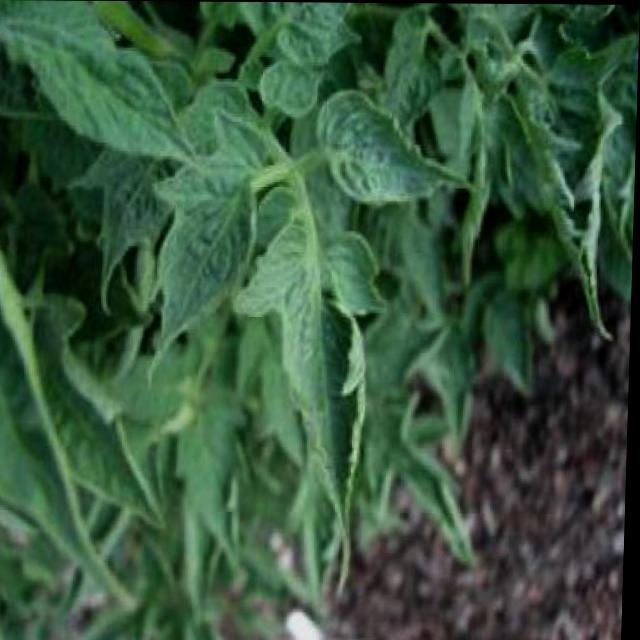Tomato yellow virus leaf: (242, 203, 384, 559), (134, 146, 276, 378), (0, 0, 200, 163), (313, 82, 478, 214), (256, 60, 327, 112)
